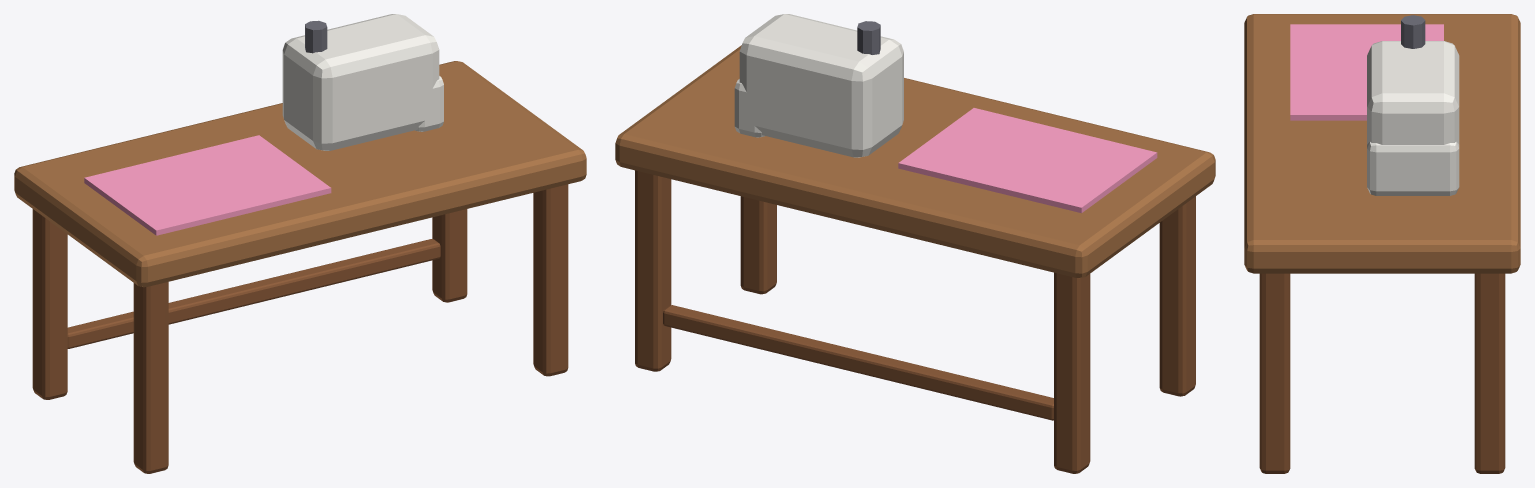
File: ban-may.glb
The picture shows the model from 3 angles, left to right: view 1: azimuth 30°, elevation 25°; view 2: azimuth 150°, elevation 25°; view 3: azimuth 270°, elevation 25°; orthographic projection. The views are drawn at different scales.
Visible parts, largest first — view 1: ban-may-0, ban-may-6, ban-may-9, ban-may-5, ban-may-3, ban-may-4, ban-may-1, ban-may-2, ban-may-7, ban-may-8; view 2: ban-may-0, ban-may-6, ban-may-9, ban-may-5, ban-may-1, ban-may-2, ban-may-3, ban-may-4, ban-may-7, ban-may-8; view 3: ban-may-0, ban-may-6, ban-may-9, ban-may-2, ban-may-4, ban-may-7, ban-may-8.
Part boxes in pixels (x1,y1,x2,y2): ban-may-0: (14,61,586,286); ban-may-6: (282,14,439,150); ban-may-9: (84,135,331,235); ban-may-5: (67,239,440,348); ban-may-3: (133,282,168,473); ban-may-4: (533,184,568,376); ban-may-1: (32,209,67,399); ban-may-2: (432,209,467,302); ban-may-7: (415,76,443,131); ban-may-8: (305,20,327,53); ban-may-0: (615,45,1215,278); ban-may-6: (739,14,903,157); ban-may-9: (898,108,1157,213); ban-may-5: (663,305,1053,420); ban-may-1: (1054,272,1090,473); ban-may-2: (635,170,671,371); ban-may-3: (1159,196,1195,396); ban-may-4: (740,196,776,294); ban-may-7: (734,79,764,137); ban-may-8: (857,21,880,54); ban-may-0: (1244,14,1520,273); ban-may-6: (1367,41,1459,144); ban-may-9: (1290,24,1443,120); ban-may-2: (1474,273,1505,473); ban-may-4: (1259,273,1290,473); ban-may-7: (1367,141,1459,195); ban-may-8: (1401,15,1425,48).
Size of the model in its own units: 1.8 by 1.3 by 0.9.
